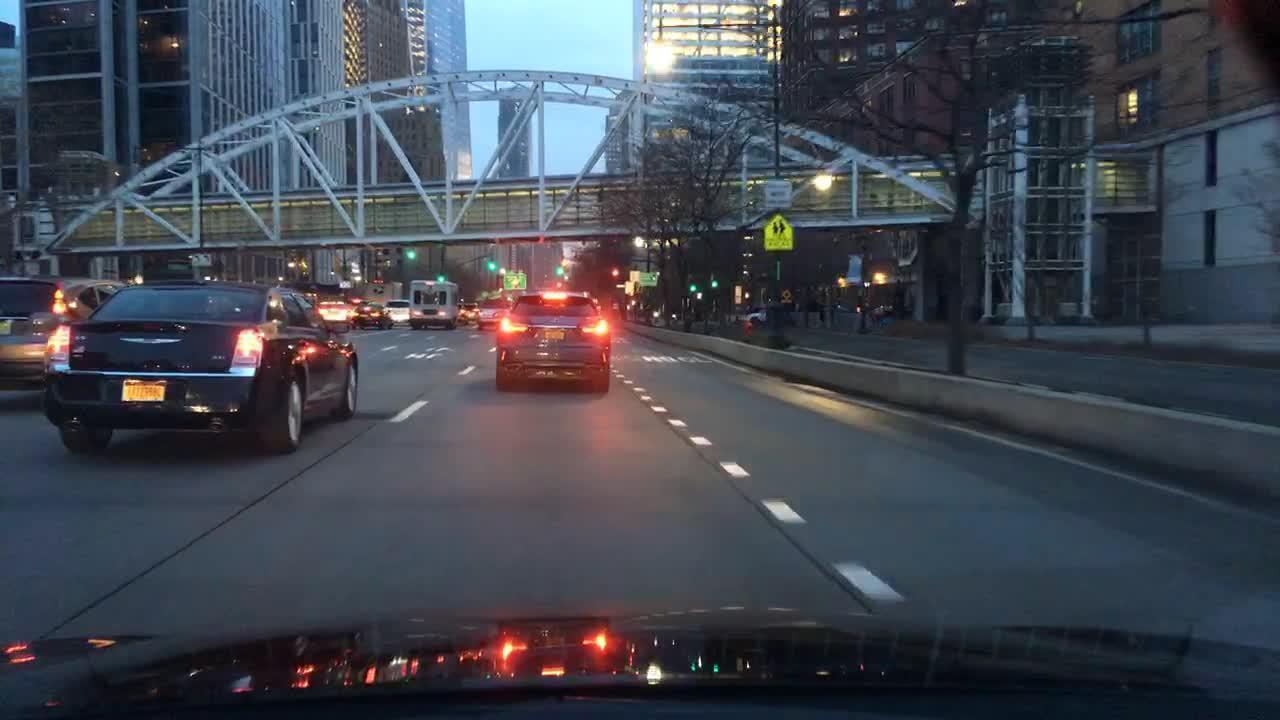Chrysler: (118, 334, 186, 347)
